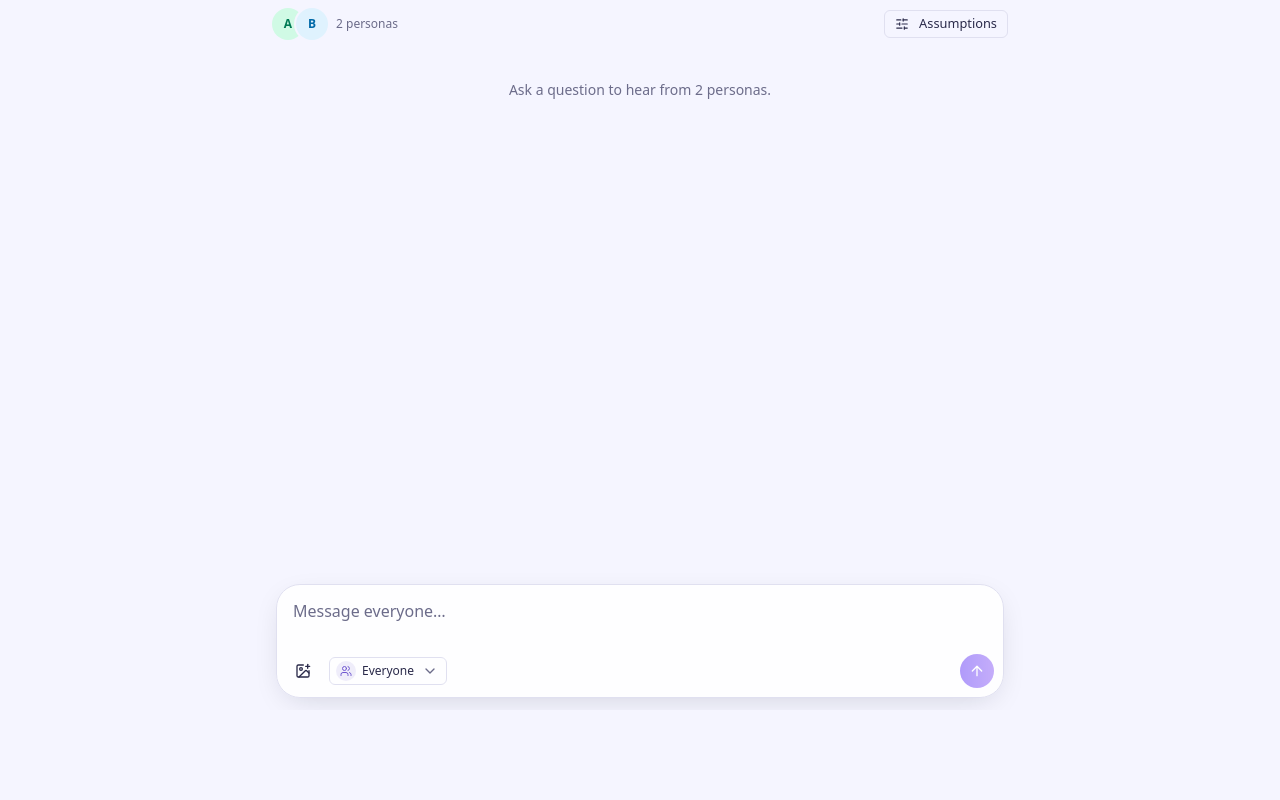
it: GroupChatView › opens the shared assumptions dialog
Click the button "Assumptions".
click(946, 24)  # box [884,10,1008,38]
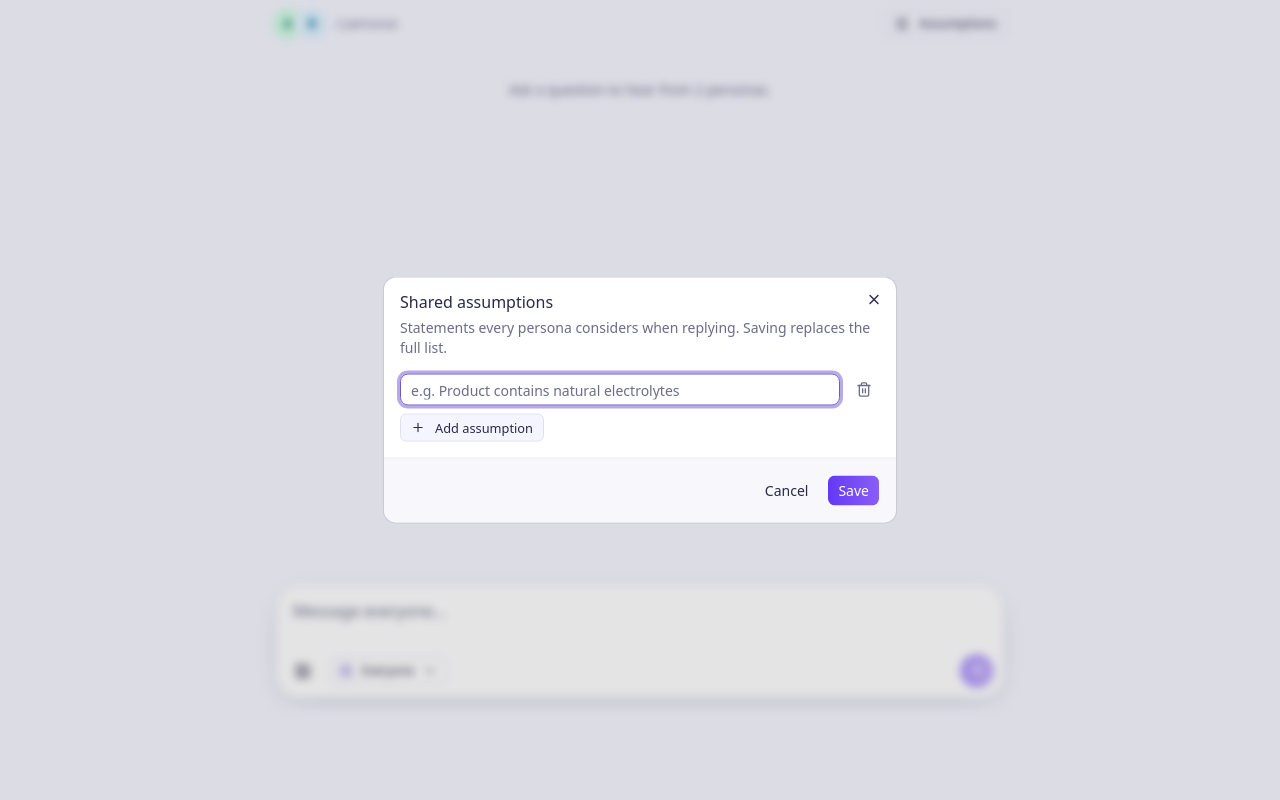
expect the heading "Shared assumptions" is shown: met, box [400,290,553,312]
